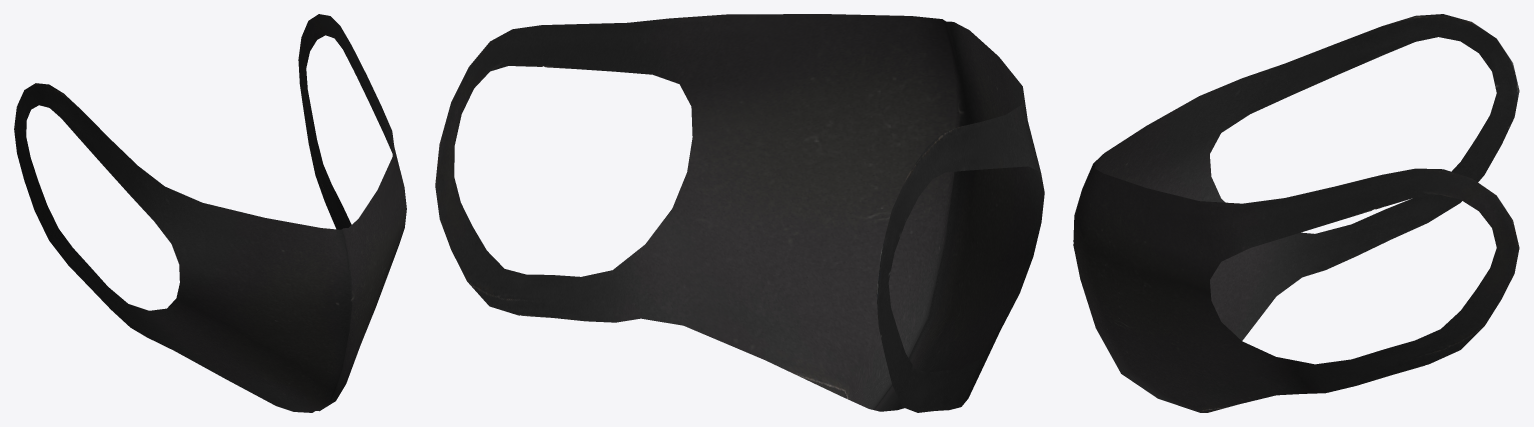
The model's file is blackmask.fbx.
3 views of the same model, side by side, from view 1: azimuth 30°, elevation 25°; view 2: azimuth 150°, elevation 25°; view 3: azimuth 270°, elevation 25° (orthographic). The views are drawn at different scales.
Visible parts, largest first — view 1: blackmask; view 2: blackmask; view 3: blackmask.
Boxes of the visible parts, bbox=[...] form: blackmask: bbox=[14, 14, 406, 412]; blackmask: bbox=[435, 14, 1044, 412]; blackmask: bbox=[1073, 14, 1519, 412].
Bounding box in the file's own units: 9.17 × 8.62 × 10.92.
